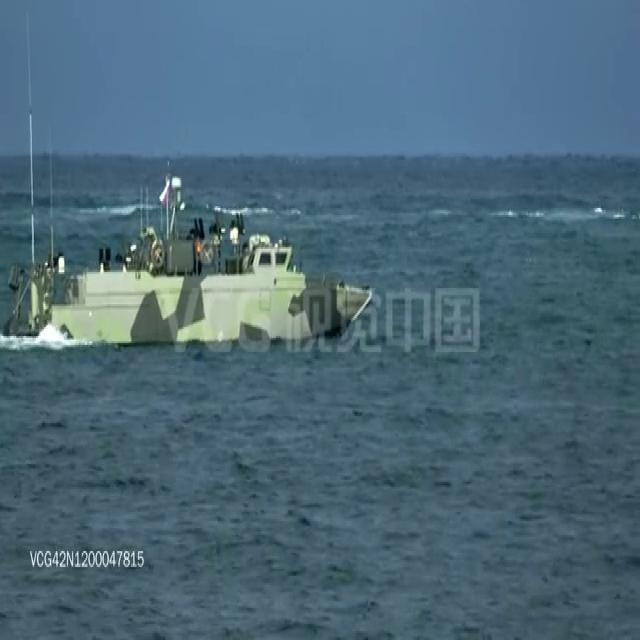houseboat: (11, 166, 372, 357)
